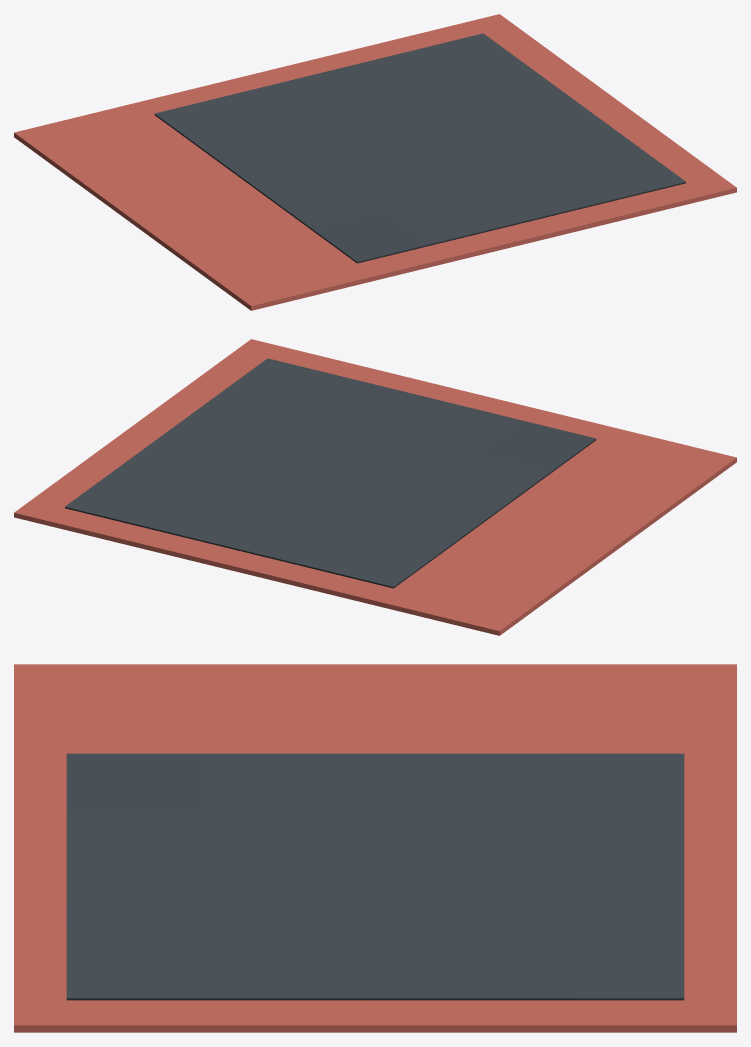
The model's file is nd_photo.glb.
The picture shows the model from 3 angles, top to bottom: view 1: azimuth 30°, elevation 25°; view 2: azimuth 150°, elevation 25°; view 3: azimuth 270°, elevation 25°; orthographic projection. The views are drawn at different scales.
Visible parts, largest first — view 1: P_img, PART; view 2: P_img, PART; view 3: P_img, PART.
Boxes of the visible parts, bbox=[...] form: P_img: bbox=[154, 33, 685, 263]; PART: bbox=[14, 14, 736, 310]; P_img: bbox=[65, 358, 596, 588]; PART: bbox=[14, 339, 736, 635]; P_img: bbox=[66, 753, 684, 1000]; PART: bbox=[14, 664, 736, 1032].
Size of the model in its own units: 0.13 by 0.0016 by 0.11.
